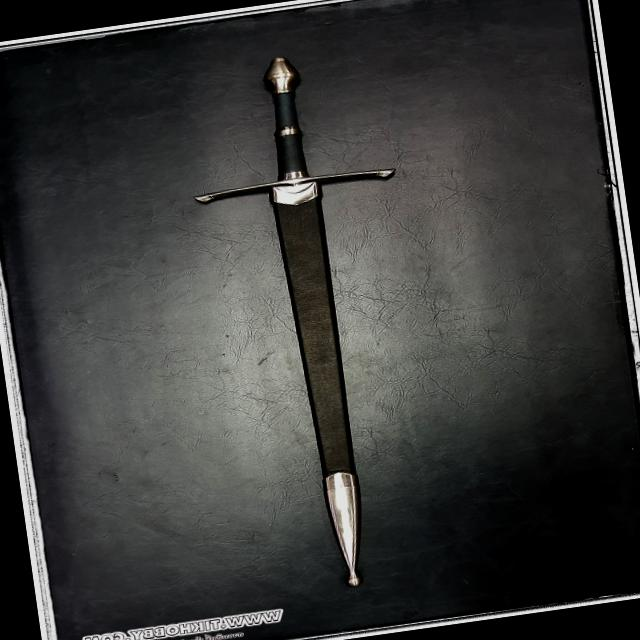long sword: (178, 38, 456, 606)
